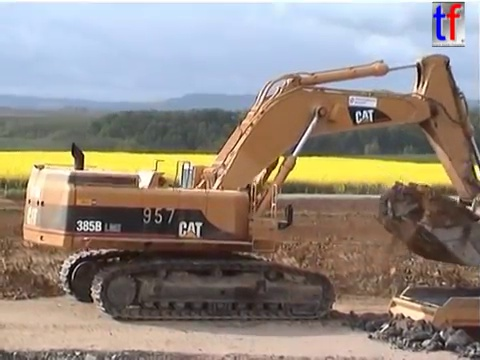excavator: (20, 50, 480, 326)
truck: (383, 283, 480, 360)
